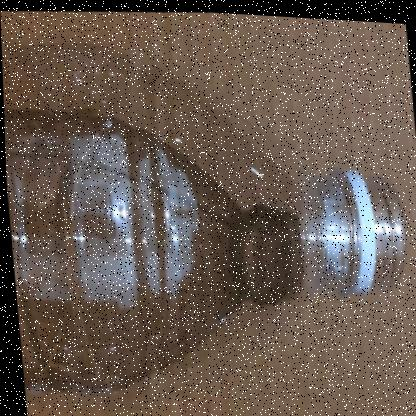open bottle: (4, 12, 416, 416)
